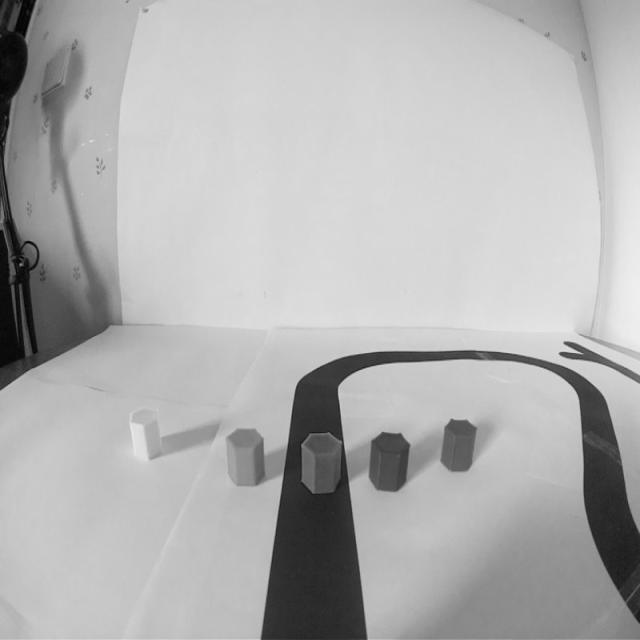hexagon: (296, 427, 344, 499), (366, 426, 412, 496), (224, 424, 269, 492), (126, 402, 164, 468), (440, 414, 477, 479)
lineStraight: (245, 462, 378, 640)
